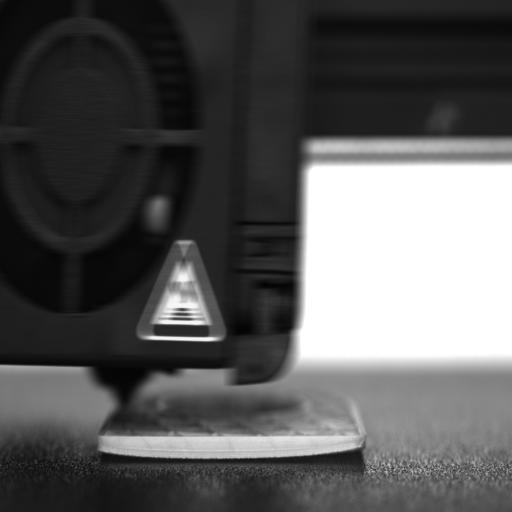warp: (95, 432, 197, 458), (262, 434, 364, 457)
